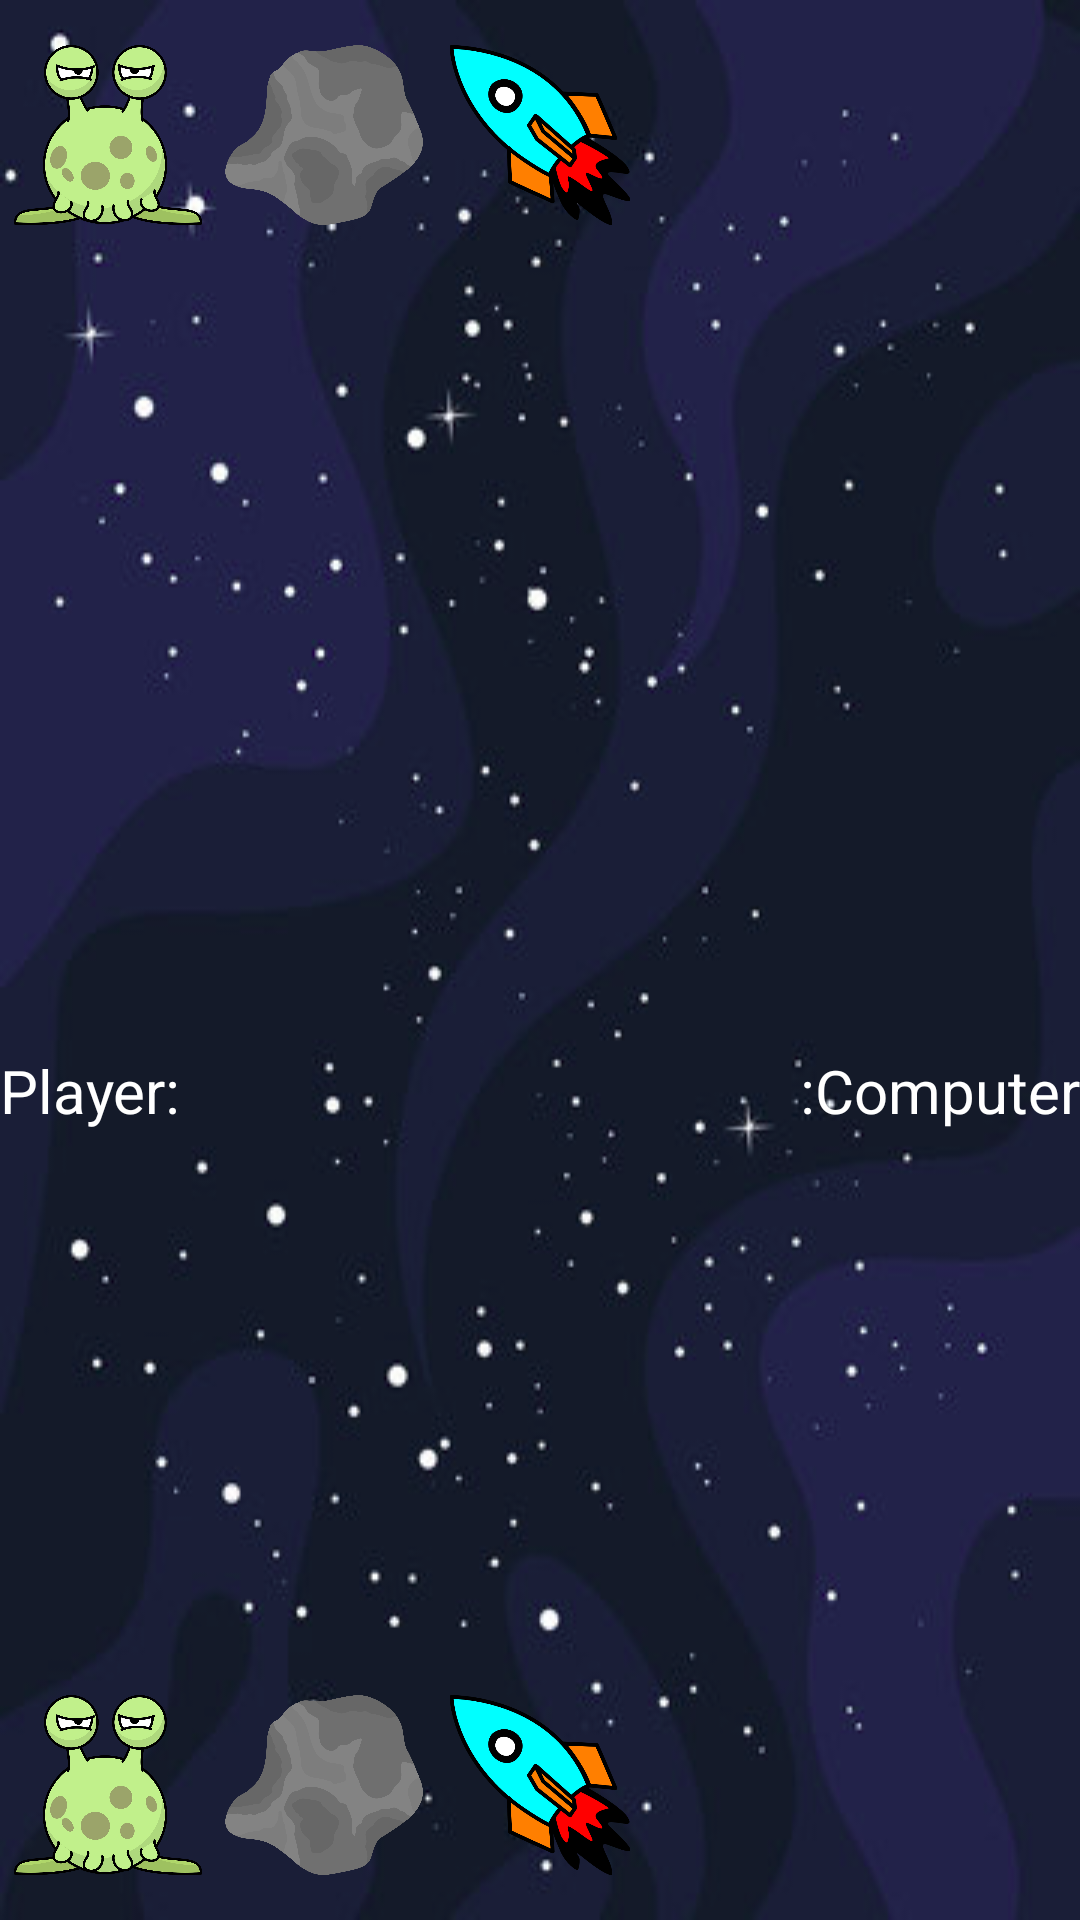

Named icons in this screenshot (1080w x 1920h) and their centers, (x=x, y=y):
asteroid: (x=328, y=135), (x=328, y=1785)
